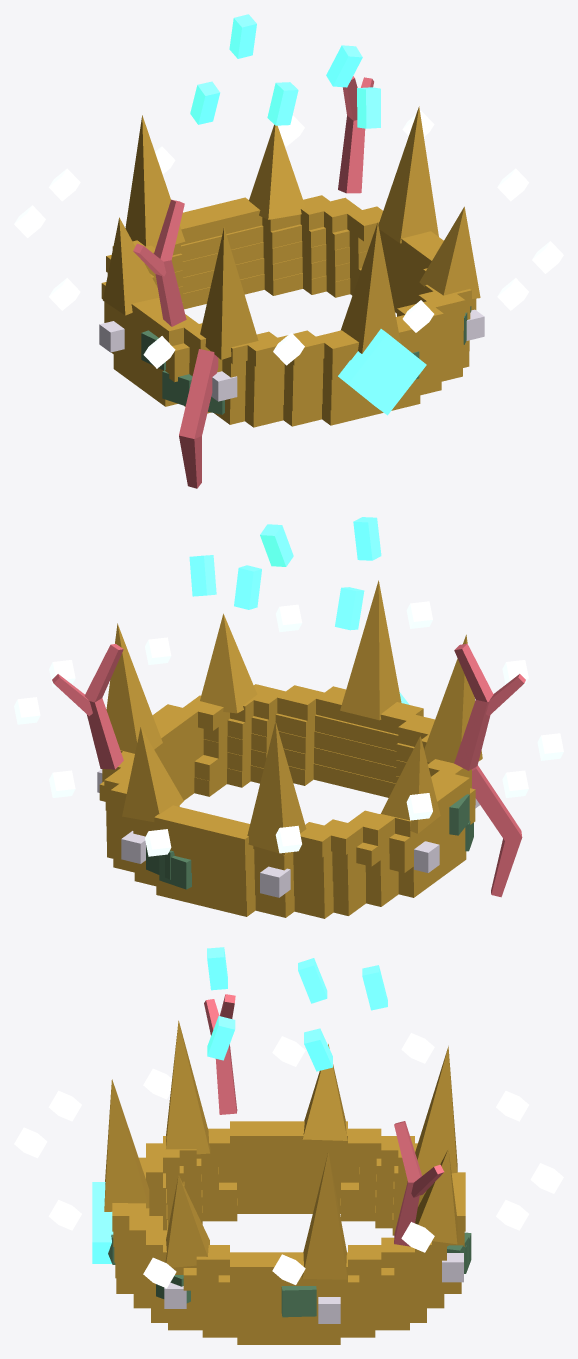
The picture shows the model from 3 angles, top to bottom: view 1: azimuth 30°, elevation 25°; view 2: azimuth 150°, elevation 25°; view 3: azimuth 270°, elevation 25°; orthographic projection.
Visible parts, largest first — view 1: R058_Main, R058_Trim, R058_Spin_Droplets, R058_Aura_Shards, R058_Glow, R058_Gem, R058_Accent; view 2: R058_Main, R058_Trim, R058_Spin_Droplets, R058_Aura_Shards, R058_Gem, R058_Accent; view 3: R058_Main, R058_Spin_Droplets, R058_Aura_Shards, R058_Trim, R058_Accent, R058_Gem, R058_Glow.
Part boxes in pixels (x1,y1,x2,y2): R058_Main: [101, 106, 480, 427]; R058_Trim: [133, 76, 373, 488]; R058_Spin_Droplets: [14, 110, 563, 368]; R058_Aura_Shards: [190, 14, 380, 128]; R058_Glow: [338, 329, 426, 415]; R058_Gem: [99, 309, 484, 401]; R058_Accent: [141, 306, 471, 414]; R058_Main: [99, 580, 482, 918]; R058_Trim: [52, 643, 525, 897]; R058_Spin_Droplets: [14, 601, 563, 856]; R058_Aura_Shards: [189, 517, 381, 630]; R058_Gem: [97, 769, 479, 897]; R058_Accent: [146, 794, 473, 889]; R058_Main: [104, 1020, 465, 1344]; R058_Spin_Droplets: [14, 1033, 563, 1288]; R058_Aura_Shards: [207, 947, 387, 1071]; R058_Trim: [204, 994, 444, 1246]; R058_Accent: [108, 1232, 471, 1317]; R058_Gem: [164, 1253, 463, 1323]; R058_Glow: [92, 1182, 113, 1263].
Bounding box in the file's own units: 2.24 × 1.62 × 2.24.
